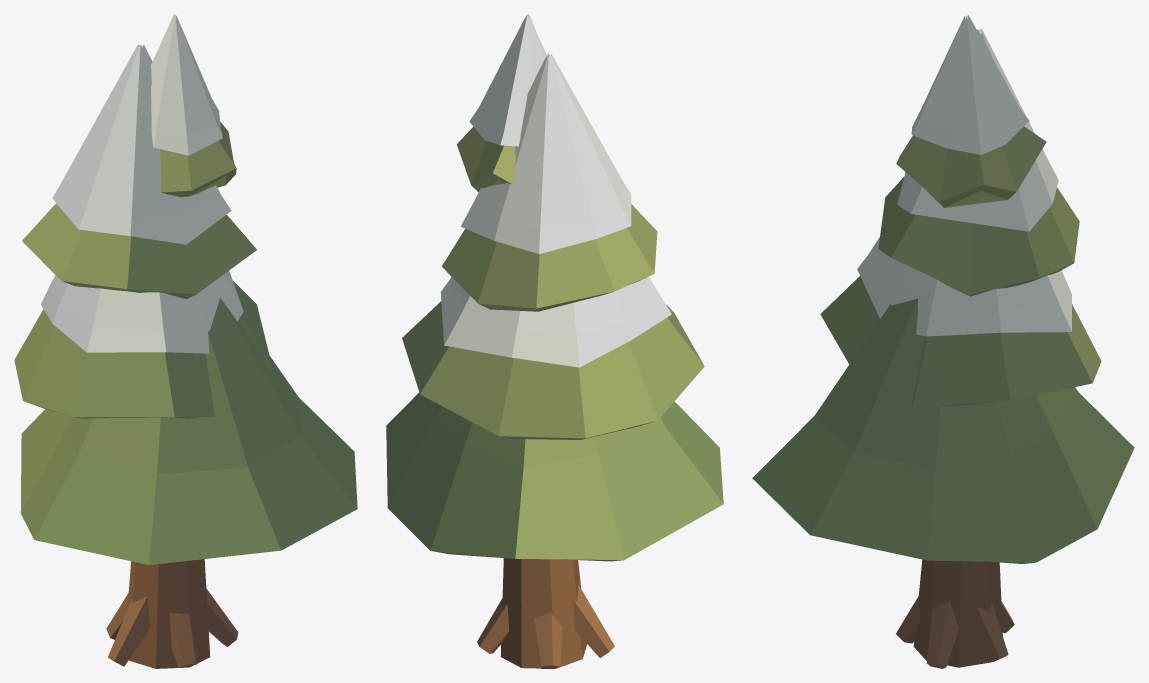
File: forage_1_winter.glb
3 renders of one model, left to right at view 1: azimuth 30°, elevation 25°; view 2: azimuth 150°, elevation 25°; view 3: azimuth 270°, elevation 25°, orthographic.
Visible parts, largest first — view 1: Rohstoff 1 · winter; view 2: Rohstoff 1 · winter; view 3: Rohstoff 1 · winter.
Part boxes in pixels (x1,y1,x2,y2): Rohstoff 1 · winter: [14, 14, 357, 668]; Rohstoff 1 · winter: [386, 14, 723, 668]; Rohstoff 1 · winter: [752, 14, 1134, 668].
Bounding box in the file's own units: 2.73 × 5.04 × 2.73.
